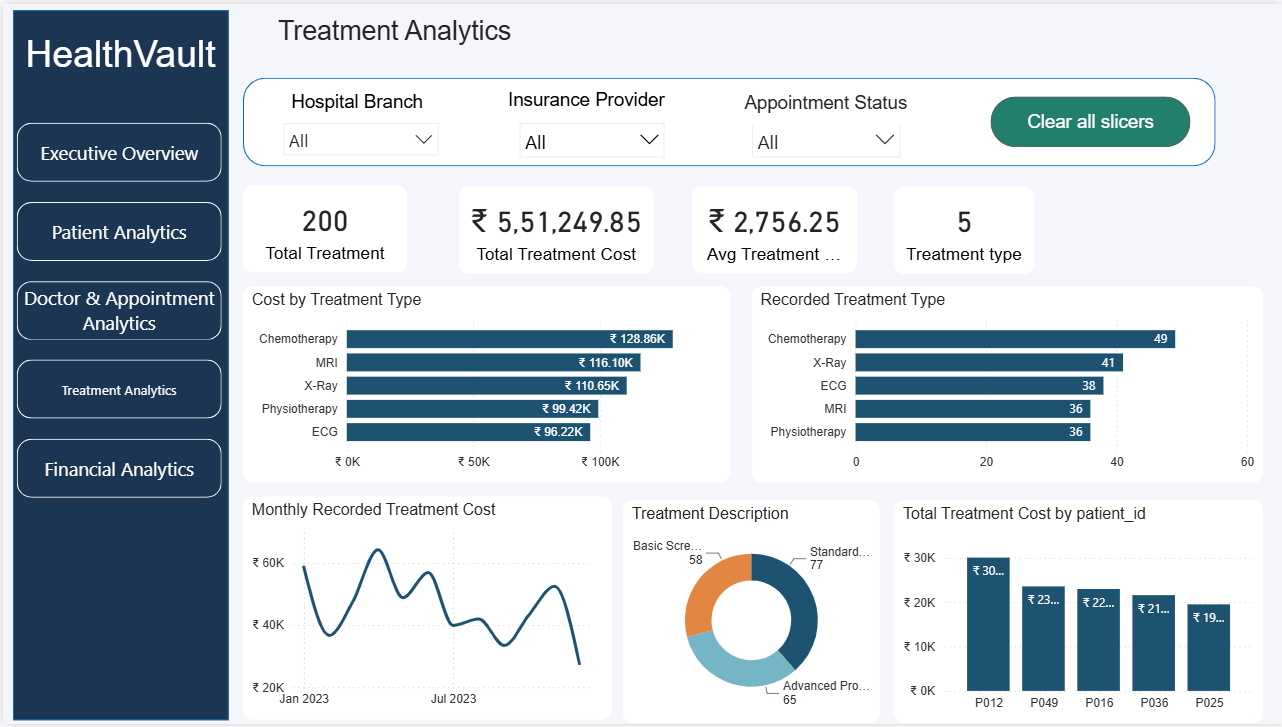

This screenshot's page, from the dashboard's own definition file:
{"tool":"powerbi","page":{"name":"Treatment Analytics","canvas":[1280,720],"ordinal":3},"visuals":[{"type":"shape","box":[10,5.7,215.7,710],"z":0},{"type":"textbox","box":[9.7,23.6,215.3,62.5],"z":1000},{"type":"pageNavigator","box":[14.1,118.3,205.6,377.5],"z":2000},{"type":"textbox","box":[270.5,7.6,255.3,48.3],"z":3000},{"type":"shape","box":[240.6,73.9,972.5,88.4],"z":4000},{"type":"actionButton","box":[987,92.8,200,50.7],"z":5000},{"type":"card","fields":{"Values":["treatment_measure.Total Treatment"]},"box":[240,181.4,164.3,87.1],"z":6000},{"type":"card","fields":{"Values":["treatment_measure.Total Treatment Cost"]},"box":[455.7,182.9,194.3,87.1],"z":7000},{"type":"card","fields":{"Values":["treatment_measure.Avg Treatment Cost"]},"box":[688.6,182.9,165.3,86.7],"z":8000},{"type":"card","fields":{"Values":["treatment_measure.Treatment type"]},"box":[891.4,182.9,140,87.1],"z":9000},{"type":"clusteredBarChart","title":"Cost by Treatment Type","fields":{"Category":["treatments.treatment_type"],"Y":["treatment_measure.Total Treatment Cost"]},"box":[240,282.9,487.1,195.7],"z":10000},{"type":"clusteredBarChart","title":"Recorded Treatment  Type","fields":{"Category":["treatments.treatment_type"],"Y":["treatment_measure.Total Treatment"]},"box":[748.6,282.9,511.4,195.7],"z":11000},{"type":"donutChart","title":"Treatment Description","fields":{"Category":["treatments.description"],"Y":["appointment_measure.Total Appointment"]},"box":[620,495.7,257.1,222.9],"z":12000},{"type":"columnChart","title":"Highest Patient Treatment Cost","fields":{"Category":["patients.patient_id"],"Y":["treatment_measure.Total Treatment Cost"]},"box":[891.4,495.7,368.6,222.9],"z":13000},{"type":"textbox","box":[262.5,81.9,182.6,42],"z":14000},{"type":"textbox","box":[500,80.6,178.3,37.7],"z":15000},{"type":"slicer","fields":{"Values":["doctors.hospital_branch"]},"box":[269.6,108.7,175.4,44.9],"z":16000},{"type":"slicer","fields":{"Values":["patients.insurance_provider"]},"box":[505.8,108.7,165.2,47.8],"z":17000},{"type":"slicer","fields":{"Values":["appointments.status"]},"box":[739.1,108.7,168.1,50.7],"z":18000},{"type":"textbox","box":[724.6,84.1,195.7,37.7],"z":19000},{"type":"lineChart","title":"Monthly Recorded Treatment Cost","fields":{"Category":["treatments.treatment_date.Variation.Date Hierarchy.Year","treatments.treatment_date.Variation.Date Hierarchy.Month"],"Y":["treatment_measure.Total Treatment Cost"]},"box":[240,492.9,368.6,222.9],"z":20000}]}

Visuals, with their boxes in screenshot pixels (x1, y1, x2, y2), scaled from the page's 1280x720 canvas onto the 1282x727 screenshot:
shape: (left=10, top=6, right=226, bottom=723)
textbox: (left=10, top=24, right=225, bottom=87)
pageNavigator: (left=14, top=119, right=220, bottom=501)
textbox: (left=271, top=8, right=527, bottom=56)
shape: (left=241, top=75, right=1215, bottom=164)
actionButton: (left=989, top=94, right=1189, bottom=145)
card - treatment_measure.Total Treatment: (left=240, top=183, right=405, bottom=271)
card - treatment_measure.Total Treatment Cost: (left=456, top=185, right=651, bottom=273)
card - treatment_measure.Avg Treatment Cost: (left=690, top=185, right=855, bottom=272)
card - treatment_measure.Treatment type: (left=893, top=185, right=1033, bottom=273)
"Cost by Treatment Type" clusteredBarChart: (left=240, top=286, right=728, bottom=483)
"Recorded Treatment  Type" clusteredBarChart: (left=750, top=286, right=1262, bottom=483)
"Treatment Description" donutChart: (left=621, top=501, right=878, bottom=726)
"Highest Patient Treatment Cost" columnChart: (left=893, top=501, right=1262, bottom=726)
textbox: (left=263, top=83, right=446, bottom=125)
textbox: (left=501, top=81, right=679, bottom=119)
slicer - doctors.hospital_branch: (left=270, top=110, right=446, bottom=155)
slicer - patients.insurance_provider: (left=507, top=110, right=672, bottom=158)
slicer - appointments.status: (left=740, top=110, right=909, bottom=161)
textbox: (left=726, top=85, right=922, bottom=123)
"Monthly Recorded Treatment Cost" lineChart: (left=240, top=498, right=610, bottom=723)
